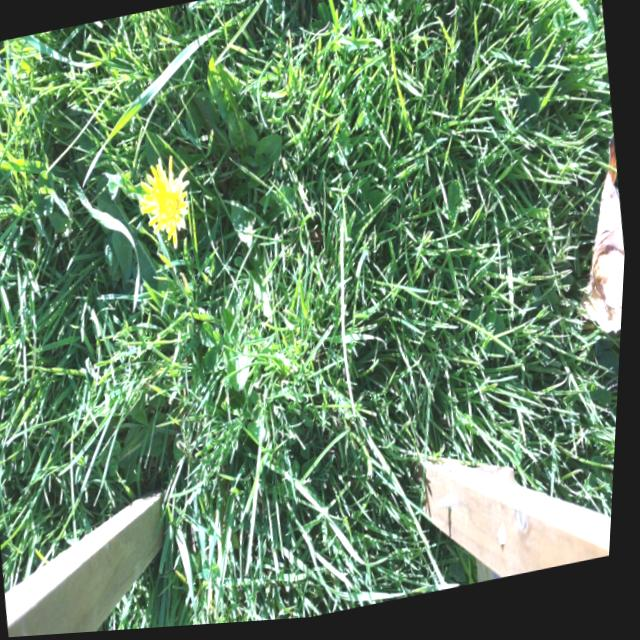base: (201, 196, 225, 234)
